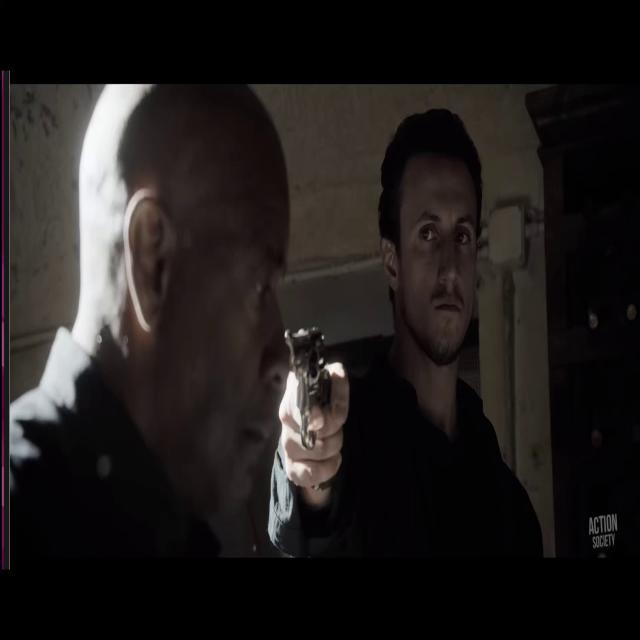weapons: (269, 295, 352, 464)
